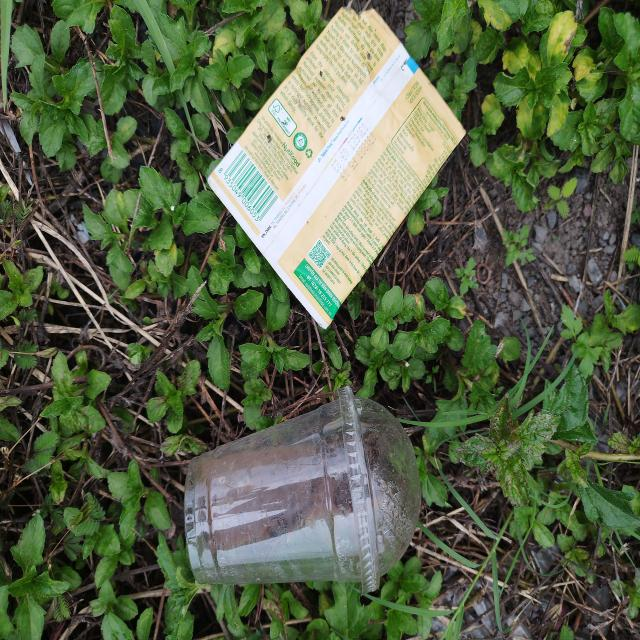packet: (208, 5, 467, 331)
plastic glass: (185, 386, 422, 592)
